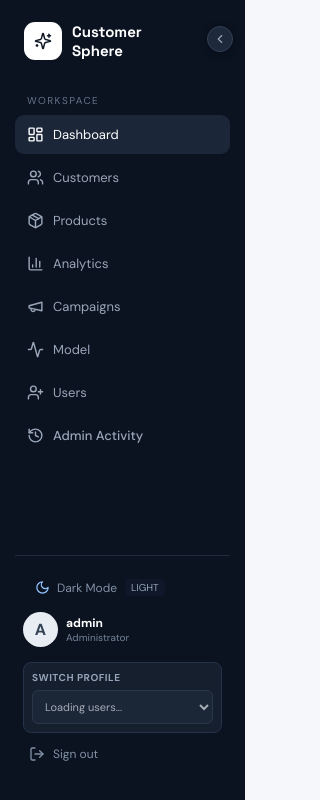
Test case: Shell Navigation & Layout Component › toggles sidebar minimize and expand state
The width and height of the screenshot is (320, 800).
Click the button titled "Minimize sidebar": (220, 39) [207,26,233,52]
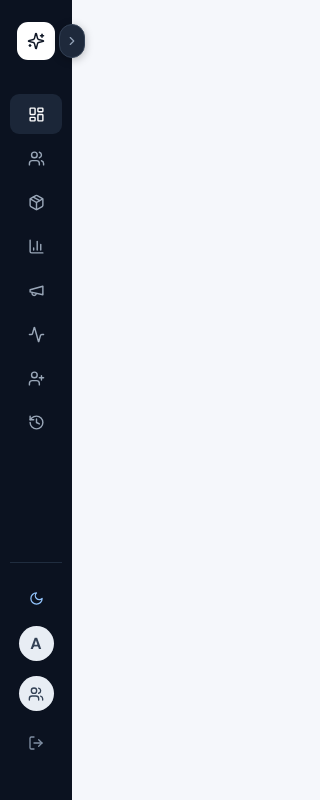
Expected: the button titled "Expand sidebar" is shown, [59,24,85,58]
